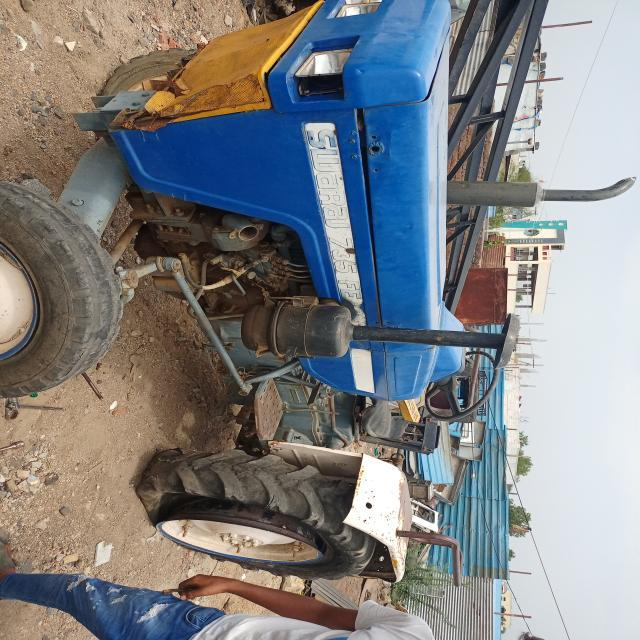Tratores - v5 YOLO V8L 2024-11-13: (0, 0, 521, 608)
